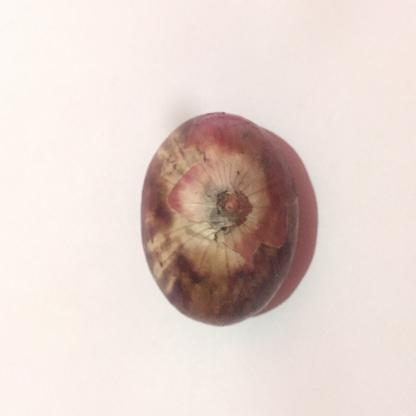onion: (123, 69, 312, 360)
